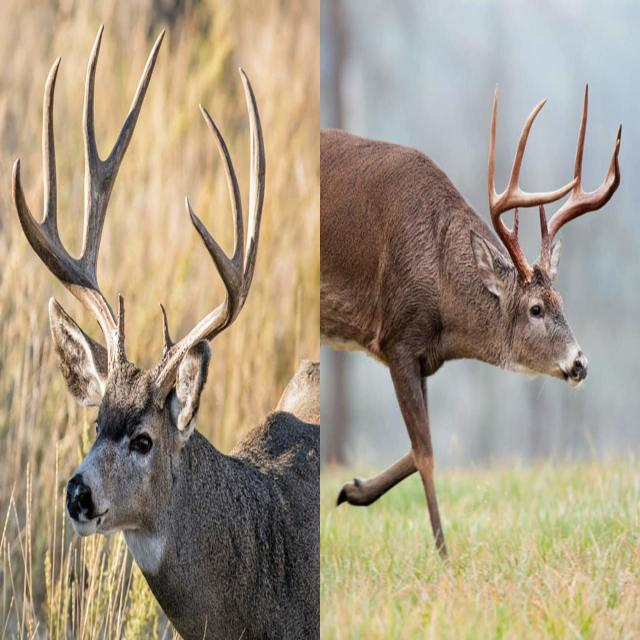Deer: (12, 18, 317, 640), (322, 82, 629, 550)
